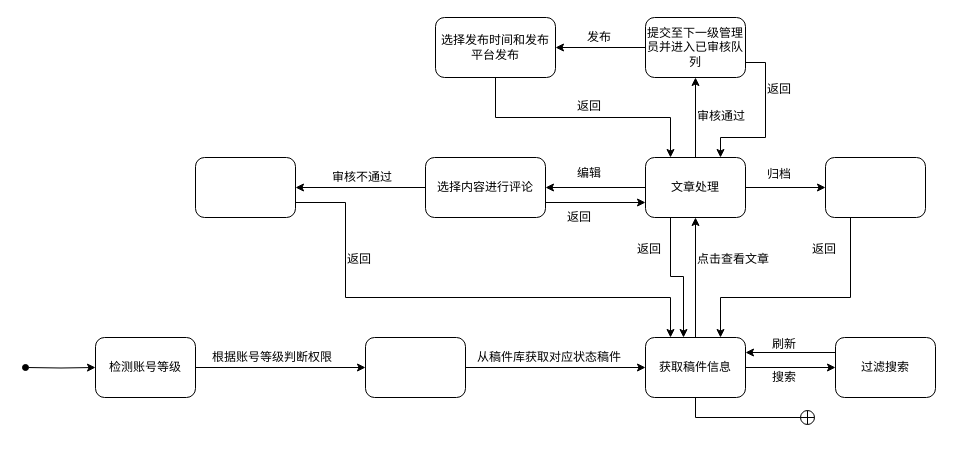
Image size: 953x469. Some labels were removed from this diagram. The centre of each missing label's shape, as x and y in pixels:
"归入归档队列" goes at point (875, 187).
"文章退回写者" goes at point (245, 187).
"获取管理列表" goes at point (415, 367).
